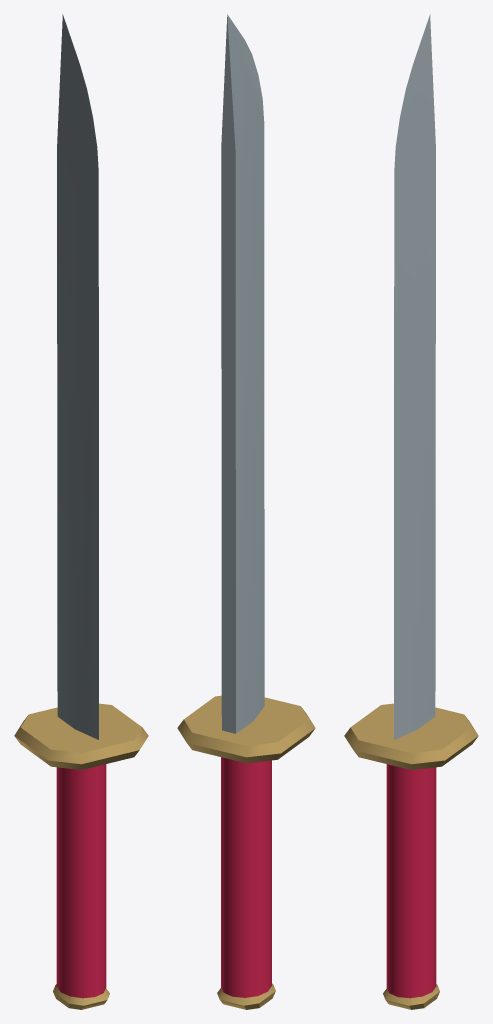
File: katana.gltf.glb
3 renders of one model, left to right at view 1: azimuth 30°, elevation 25°; view 2: azimuth 150°, elevation 25°; view 3: azimuth 330°, elevation 25°, orthographic. The views are drawn at different scales.
Parts seen in each view (by area): view 1: katana; view 2: katana; view 3: katana.
Boxes of the visible parts, x1=… form: katana: x1=14, y1=14, x2=148, y2=1009; katana: x1=177, y1=14, x2=315, y2=1009; katana: x1=344, y1=14, x2=478, y2=1009.
Size of the model in its own units: 0.1635 by 1.51 by 0.1635.
